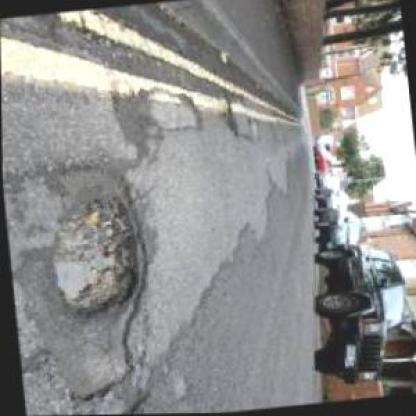pothole: (40, 186, 148, 322)
